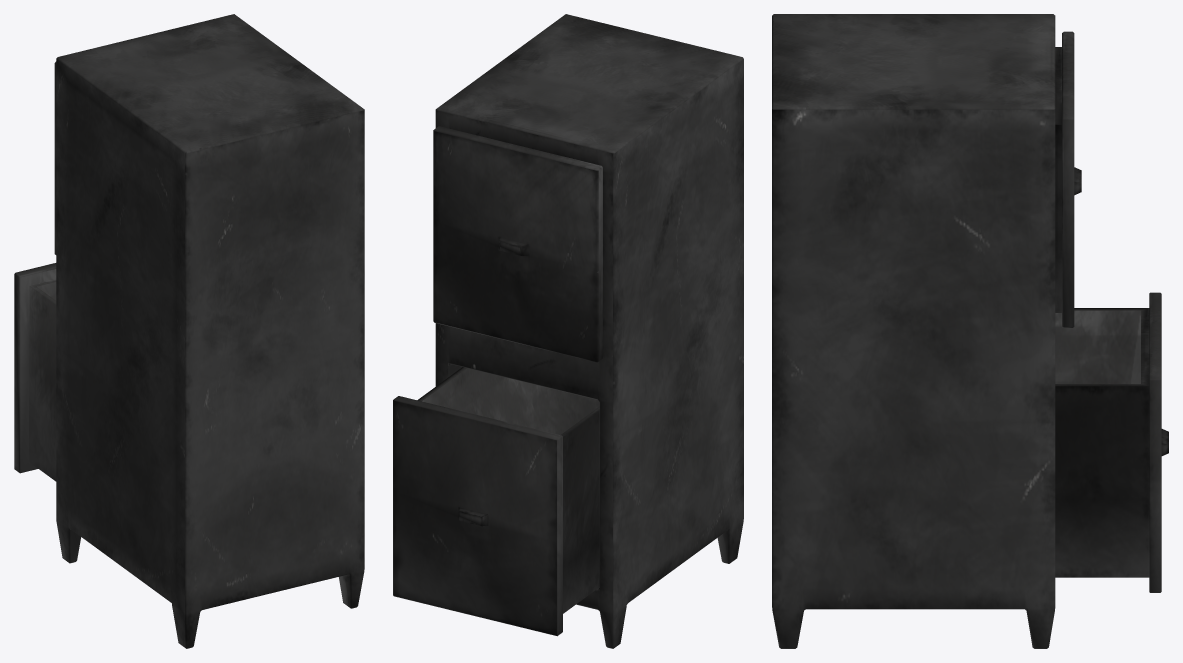
The model's file is archive-cabinet.glb.
The picture shows the model from 3 angles, left to right: view 1: azimuth 30°, elevation 25°; view 2: azimuth 150°, elevation 25°; view 3: azimuth 270°, elevation 25°; orthographic projection. The views are drawn at different scales.
Parts seen in each view (by area): view 1: Cubo_2, Cubo.002_0, Cubo.001_1; view 2: Cubo_2, Cubo.002_0, Cubo.001_1; view 3: Cubo_2, Cubo.002_0, Cubo.001_1.
Part boxes in pixels (bbox=[...]): Cubo_2: bbox=[56, 14, 364, 648]; Cubo.002_0: bbox=[14, 263, 56, 481]; Cubo.001_1: bbox=[54, 61, 56, 254]; Cubo_2: bbox=[435, 14, 743, 648]; Cubo.002_0: bbox=[393, 367, 599, 636]; Cubo.001_1: bbox=[433, 126, 602, 362]; Cubo_2: bbox=[772, 14, 1055, 648]; Cubo.002_0: bbox=[1055, 292, 1168, 592]; Cubo.001_1: bbox=[1055, 31, 1081, 327].
Size of the model in its own units: 0.9618 by 2.57 by 1.7.
2 materials, 2 textured.
